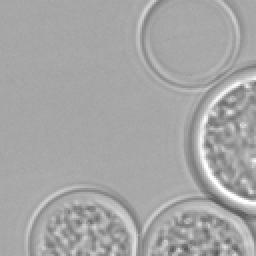picoshell: (186, 66, 254, 214), (136, 0, 240, 92), (24, 184, 140, 254), (140, 194, 254, 254)
